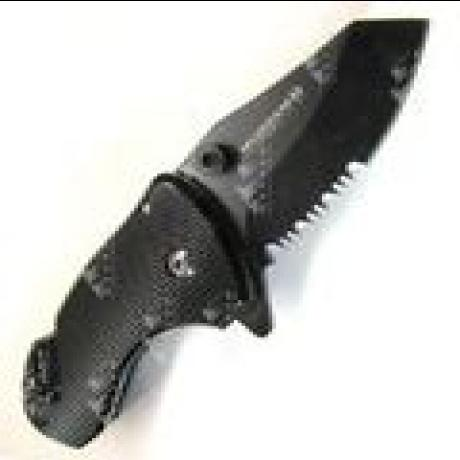weapon: (5, 4, 460, 460)
